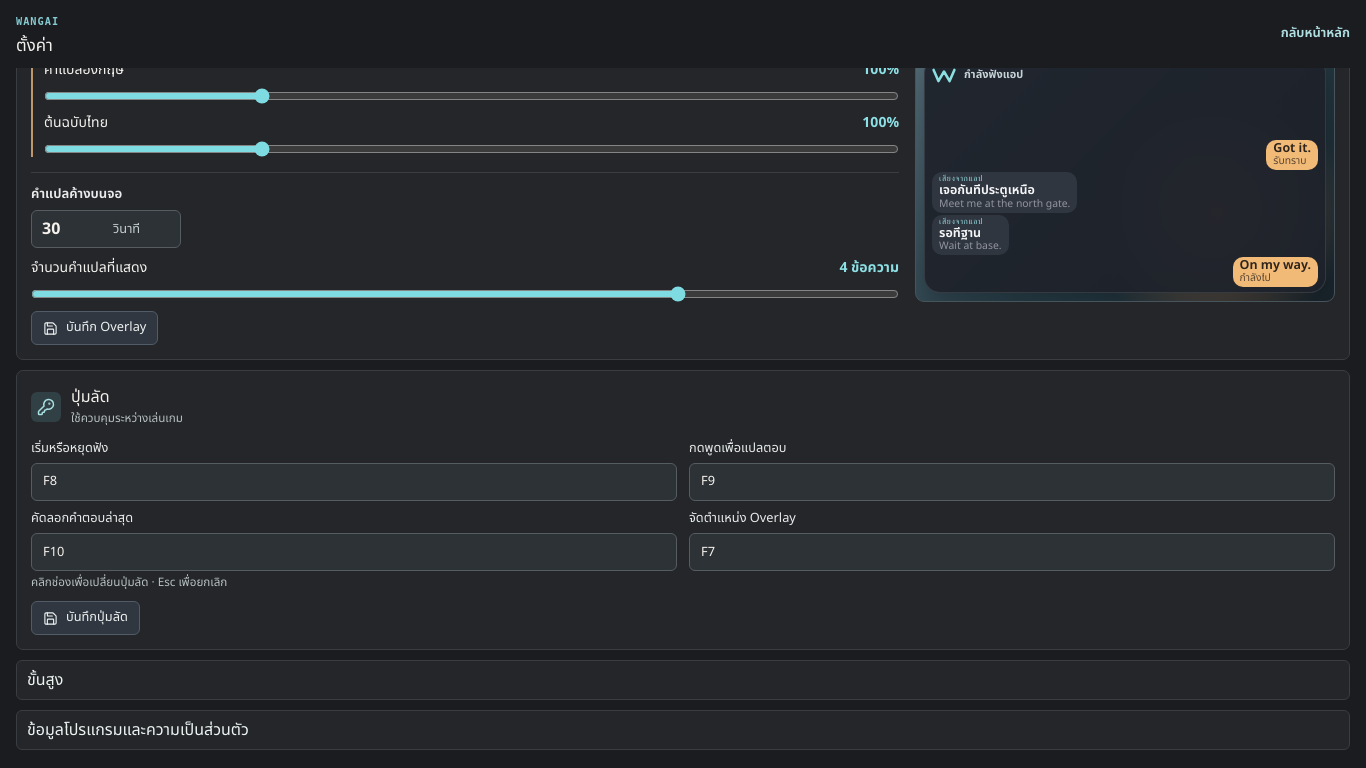
Scenario: settings with nullable desktop audio diagnostics › clears a shortcut error when recording is cancelled
(page scrolled)
Click the button named "เปลี่ยนปุ่มลัด เริ่มหรือหยุดฟัง" at {"x": 50, "y": 481}, box [31,463,677,501]
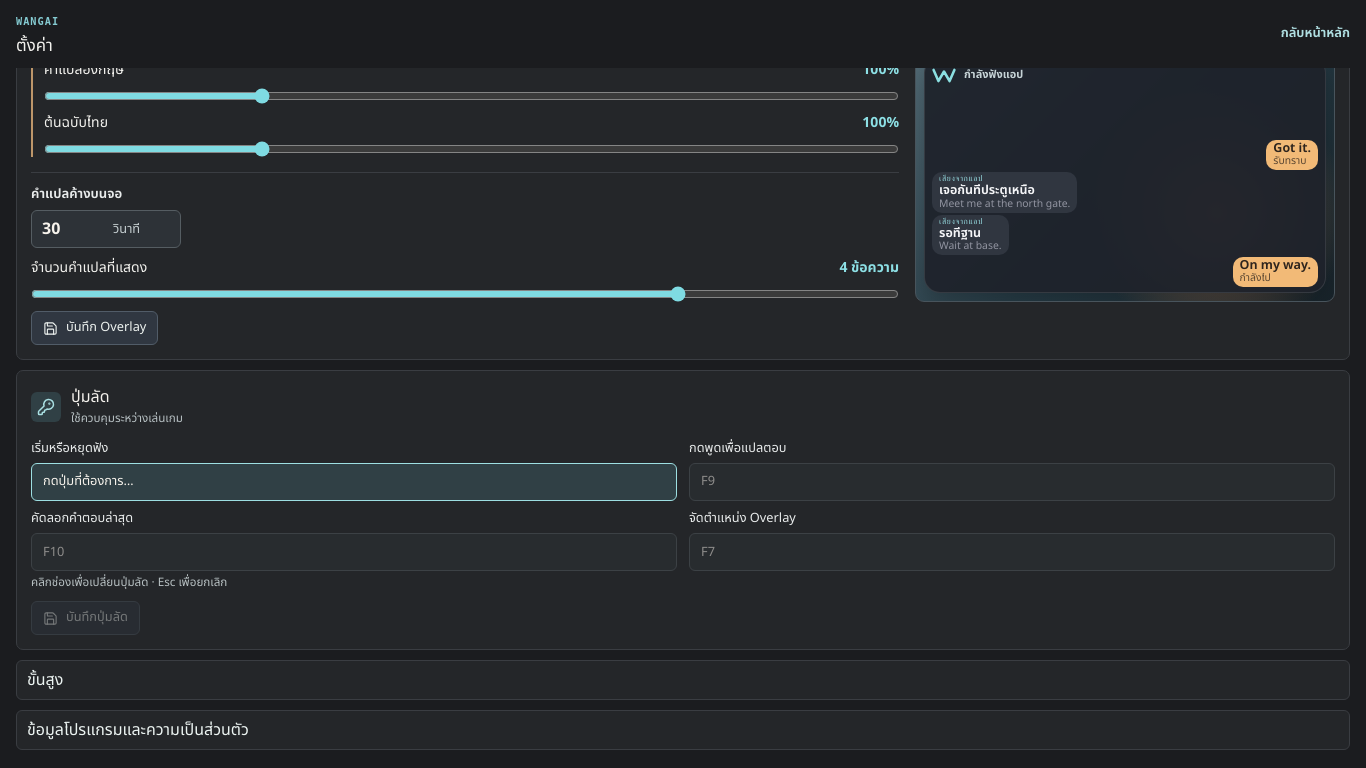
Expected: the button "กดปุ่มที่ต้องการ…" is shown, [31,463,677,501]
Press F9
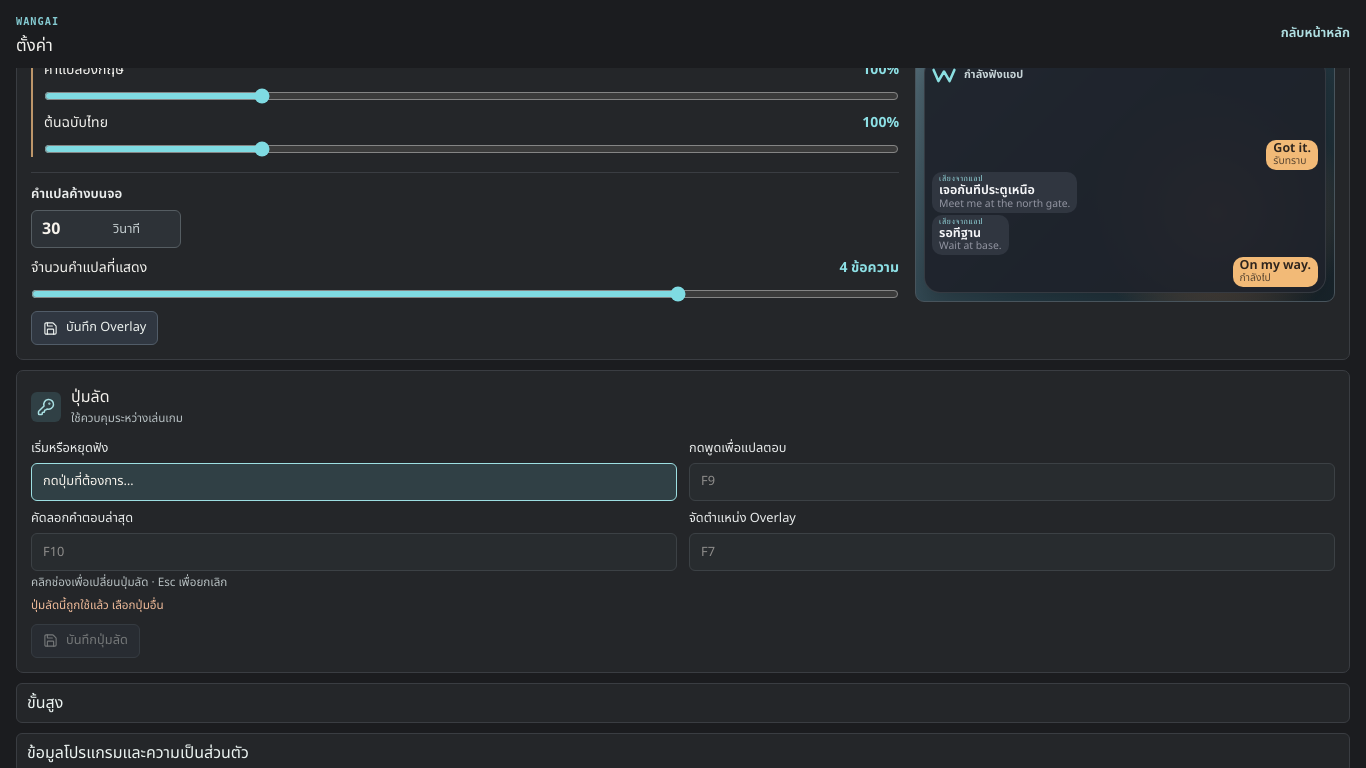
Expected: the message shows "ปุ่มลัดนี้ถูกใช้แล้ว", [31,597,164,614]
Press Escape
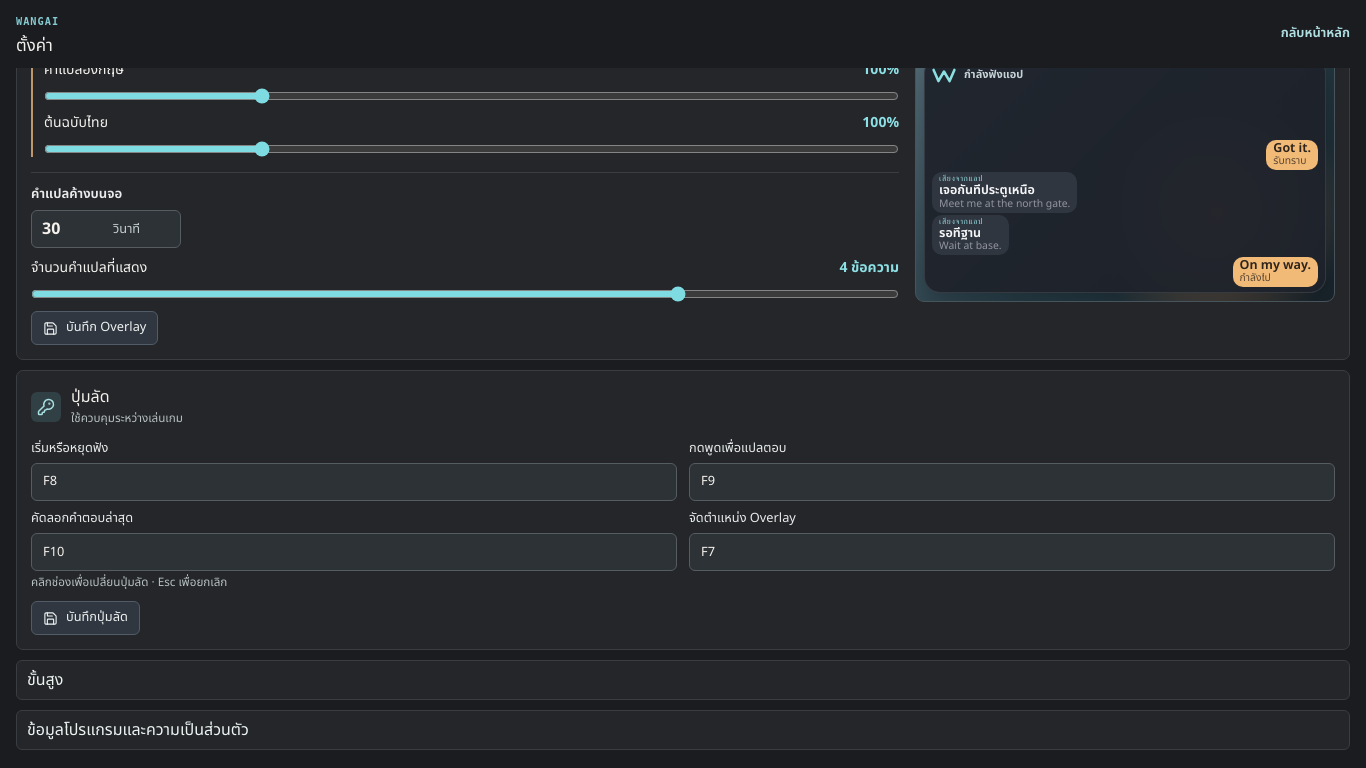
Expected: the button "กดปุ่มที่ต้องการ…" reads "F8", [31,463,677,501]
Expected: the text "ปุ่มลัดนี้ถูกใช้แล้ว เลือกปุ่มอื่น" is gone
